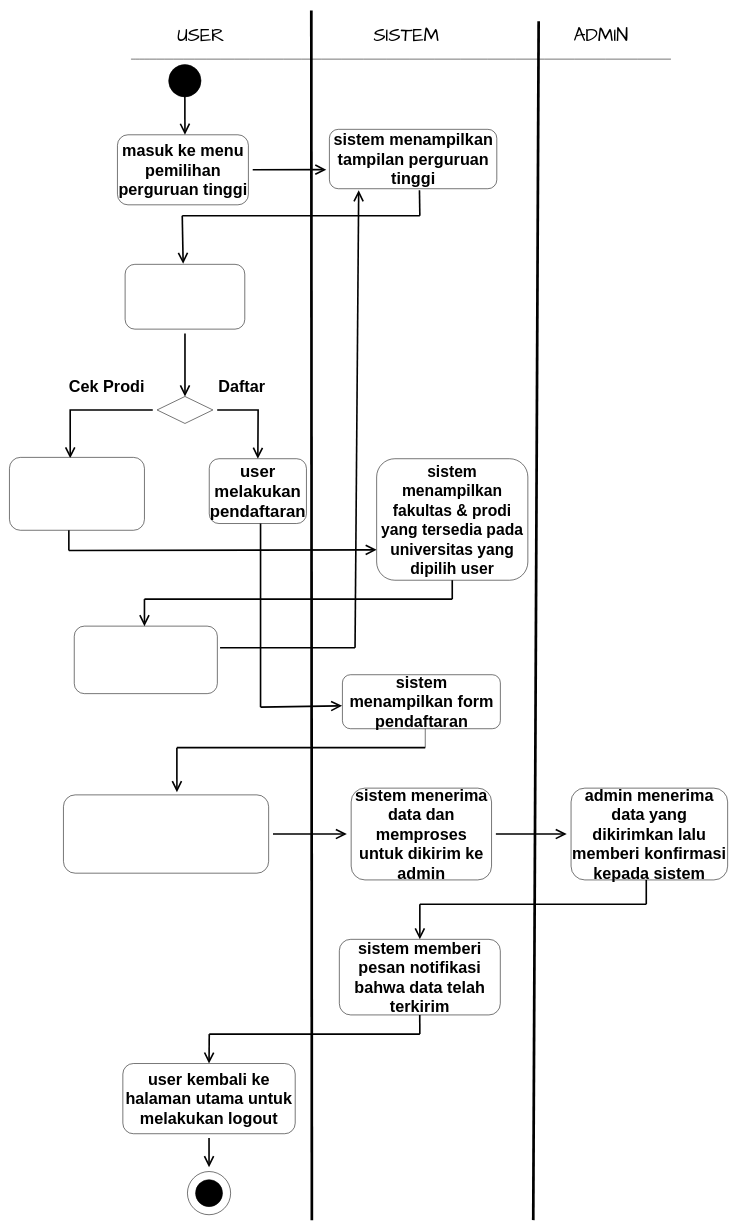
The diagram is 737 pixels wide and 1231 high, and some of its shapes have lost their labels. The centre of each missing label's shape, as x and y in pixels:
setelah selesai mengecek user meng-klik kembali: point (145, 660)
user memilih universitas yang tersedia: point (185, 296)
user mengecek pilihan prodi yang ada: point (76, 493)
user mengisi dan melengkapi form dengan data diri pribadi lalu mengirimnya: point (166, 833)
